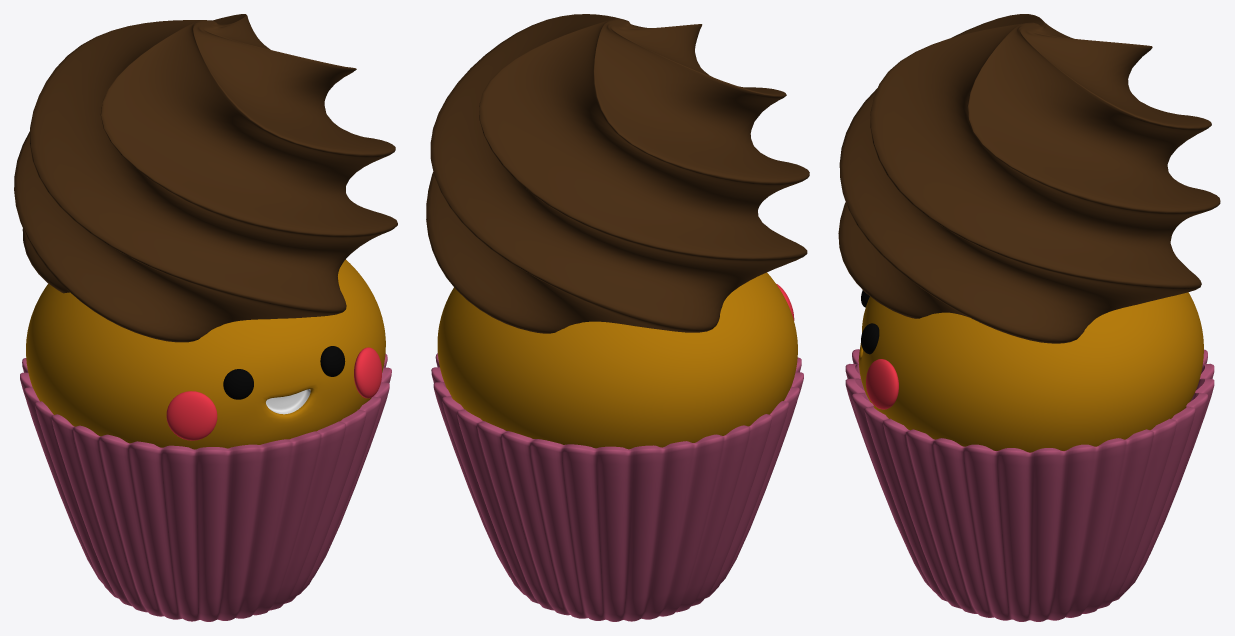
File: cupcake.fbx
The picture shows the model from 3 angles, left to right: view 1: azimuth 30°, elevation 25°; view 2: azimuth 150°, elevation 25°; view 3: azimuth 270°, elevation 25°; orthographic projection.
Parts seen in each view (by area): view 1: cobertura, forma, massa, bochecha, olhos; view 2: cobertura, forma, massa; view 3: cobertura, forma, massa, bochecha, olhos.
Part boxes in pixels (x1,y1,x2,y2): cobertura: [14, 14, 397, 342]; forma: [20, 354, 391, 621]; massa: [26, 259, 385, 449]; bochecha: [166, 347, 381, 440]; olhos: [223, 346, 345, 399]; cobertura: [426, 14, 809, 333]; forma: [431, 353, 803, 621]; massa: [437, 272, 797, 449]; cobertura: [838, 14, 1220, 343]; forma: [845, 349, 1214, 621]; massa: [858, 292, 1203, 452]; bochecha: [866, 359, 898, 409]; olhos: [861, 290, 879, 354].
Size of the model in its own units: 158 by 254 by 158.
